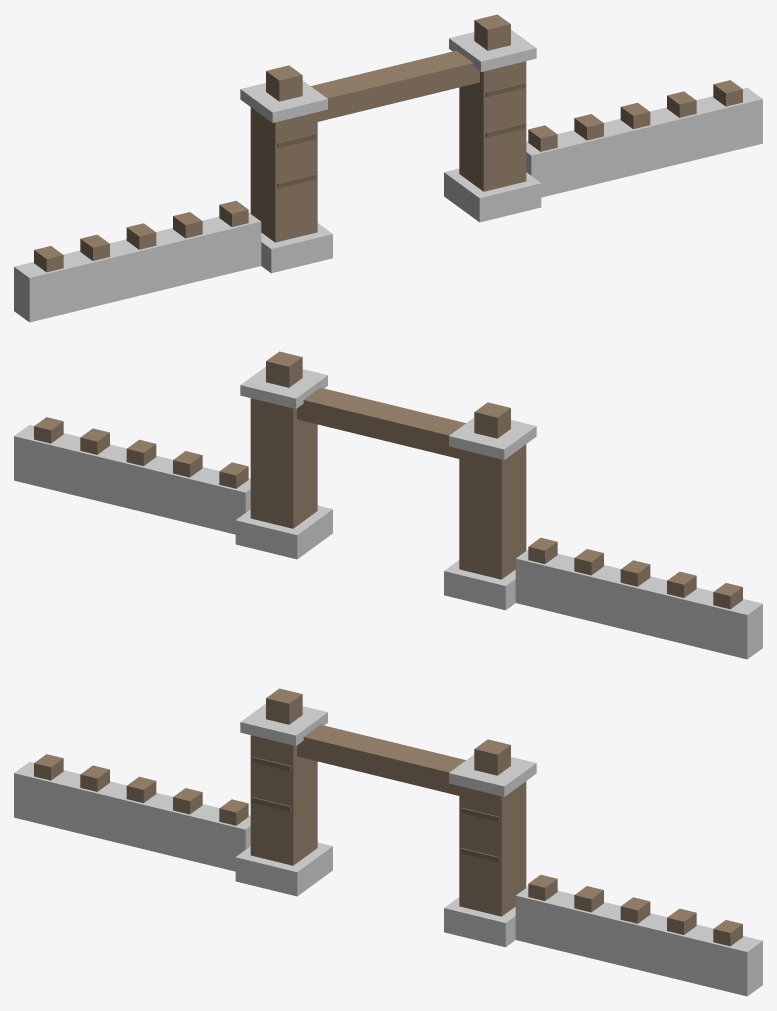
The model's file is prop_gate_wood.glb.
3 renders of one model, top to bottom at view 1: azimuth 30°, elevation 25°; view 2: azimuth 150°, elevation 25°; view 3: azimuth 330°, elevation 25°, orthographic.
Visible parts, largest first — view 1: tint, body; view 2: tint, body; view 3: tint, body.
Part boxes in pixels (<box>): tint: <box>14,29,762,322</box>; body: <box>34,14,742,272</box>; tint: <box>14,366,762,659</box>; body: <box>34,351,742,609</box>; tint: <box>14,703,762,996</box>; body: <box>34,688,742,946</box>.
Bounding box in the file's own units: 19 × 4.45 × 1.6.
